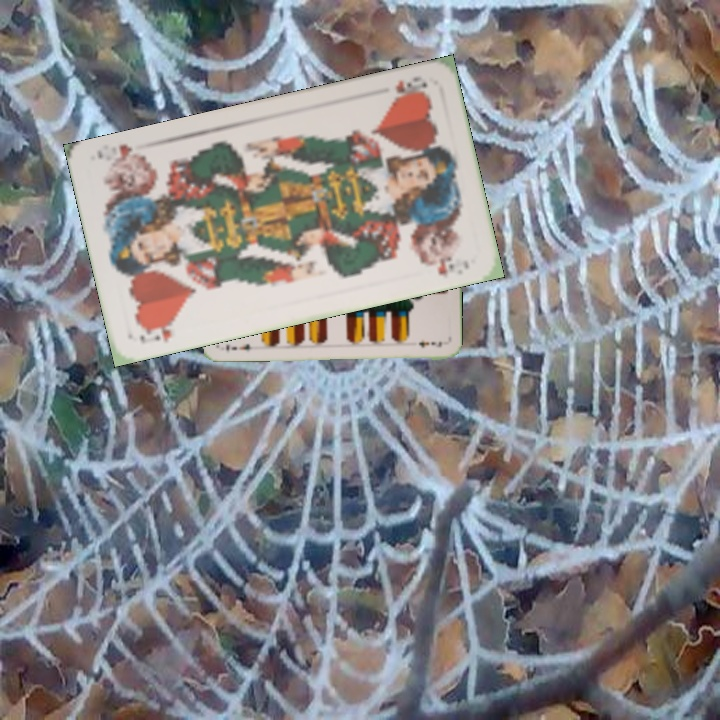E7: (222, 340, 257, 353)
HO: (385, 72, 430, 104), (135, 317, 179, 347)
